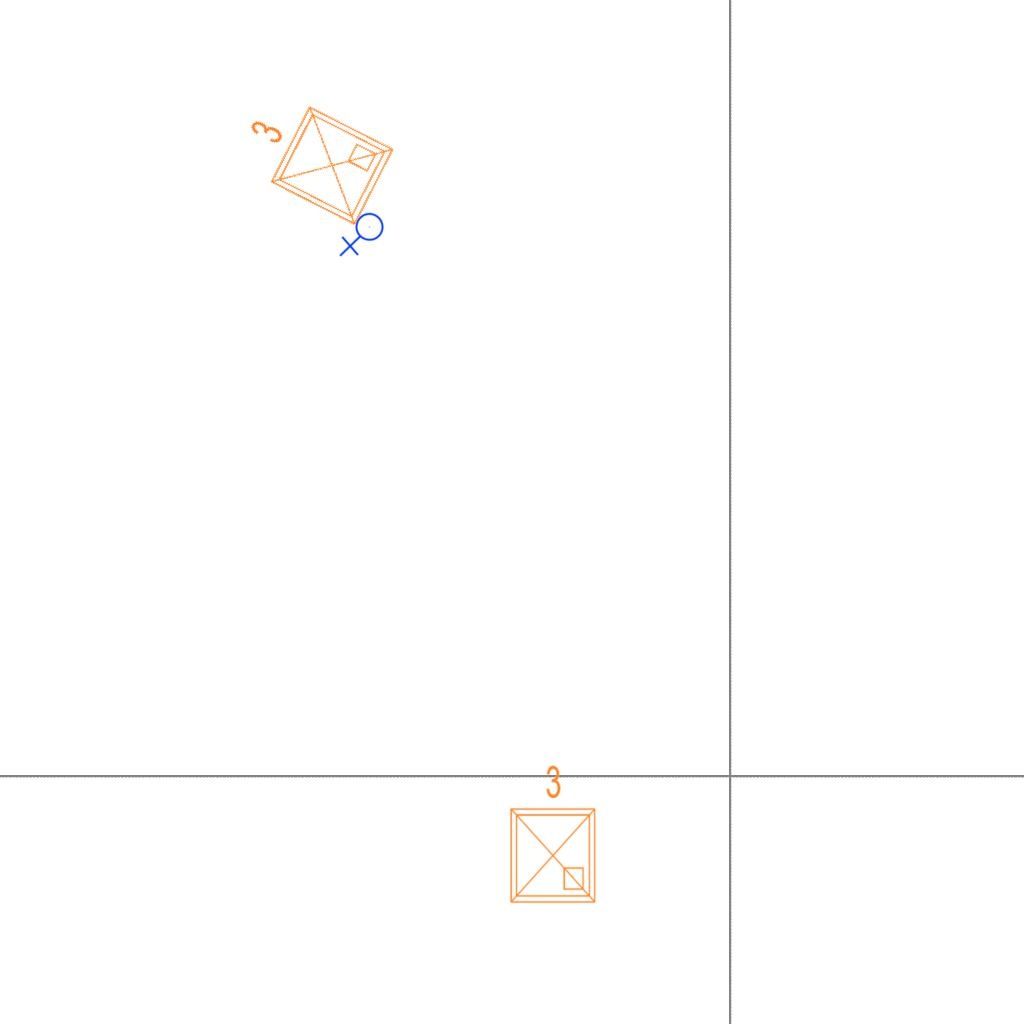Einbaudownlights_LED_Konferenzraeume: (222, 77, 404, 239), (499, 760, 603, 910)
Elektroanschluss_allgemein_230V_Geraeteanschlussdose_230V: (339, 212, 388, 259)
